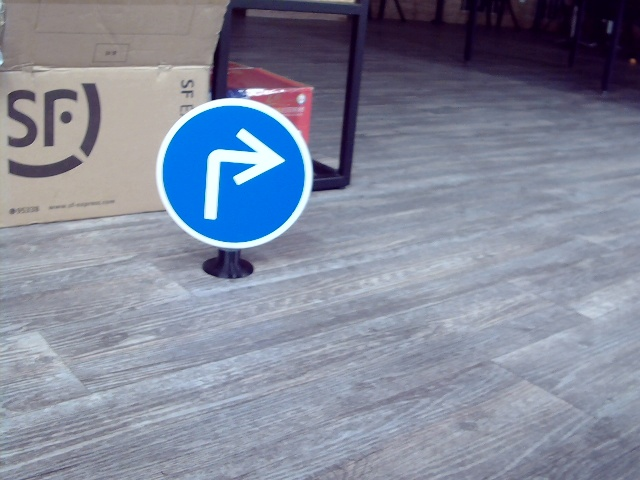turn_right: (194, 127, 285, 222)
